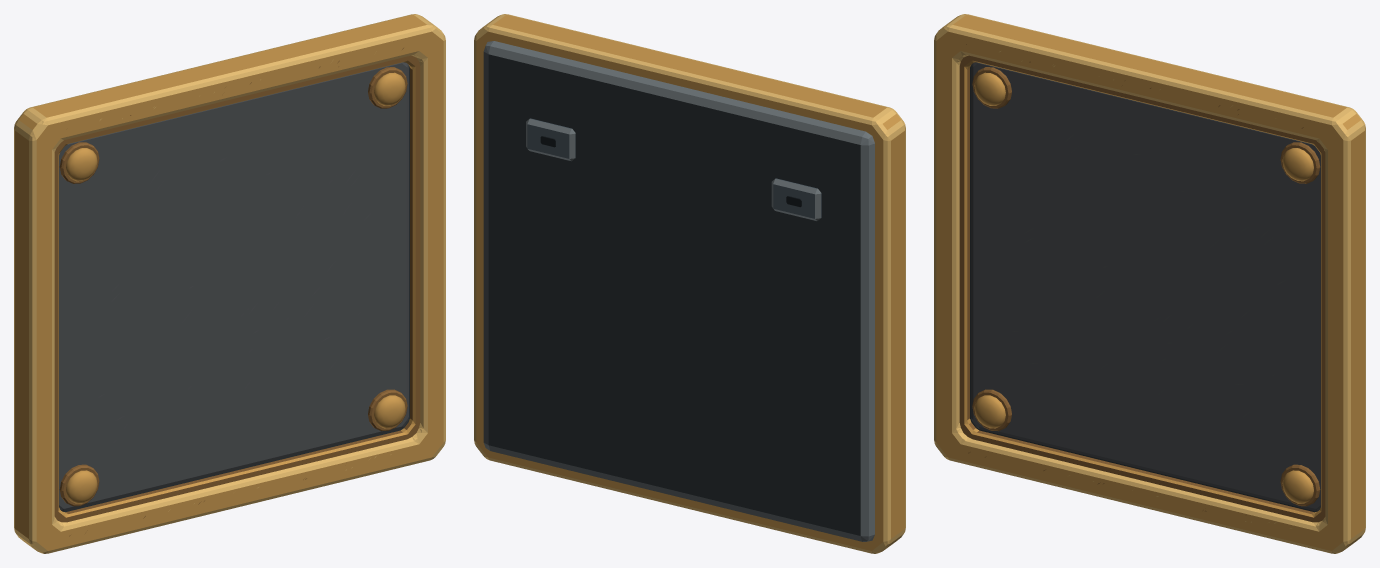
File: wsc-prop-051-trophy-display-frame.glb
3 views of the same model, side by side, from view 1: azimuth 30°, elevation 25°; view 2: azimuth 150°, elevation 25°; view 3: azimuth 330°, elevation 25° (orthographic).
Visible parts, largest first — view 1: WSC-PROP-051 | frame; view 2: WSC-PROP-051 | frame; view 3: WSC-PROP-051 | frame.
Part boxes in pixels (x1=…): WSC-PROP-051 | frame: x1=14, y1=14, x2=445, y2=553; WSC-PROP-051 | frame: x1=474, y1=14, x2=905, y2=553; WSC-PROP-051 | frame: x1=934, y1=14, x2=1365, y2=553.
Size of the model in its own units: 1.24 by 1.24 by 0.151.
